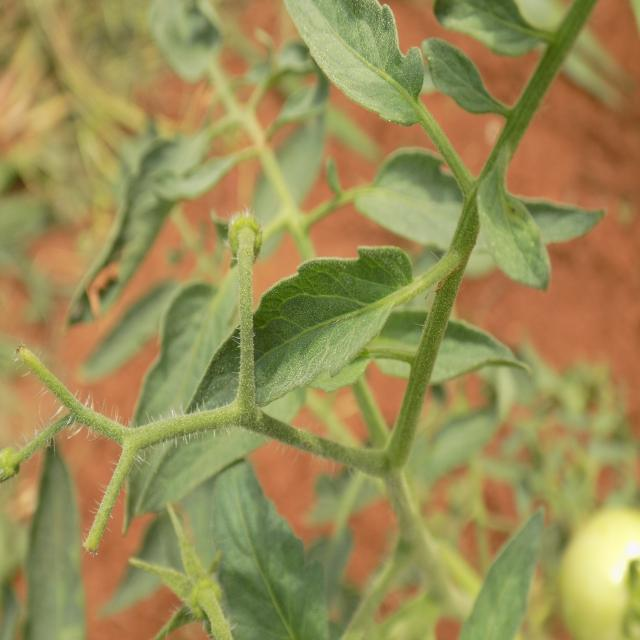tomato_healthy: (183, 243, 410, 428), (282, 0, 424, 128)
